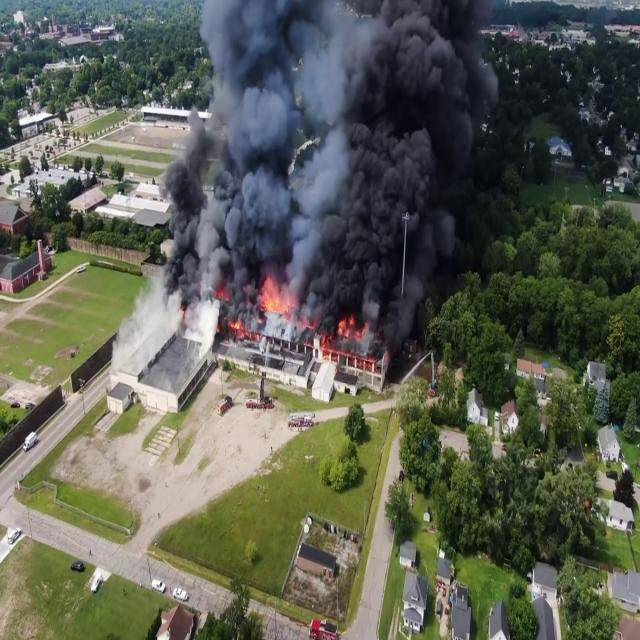Smoke: (136, 0, 525, 317)
